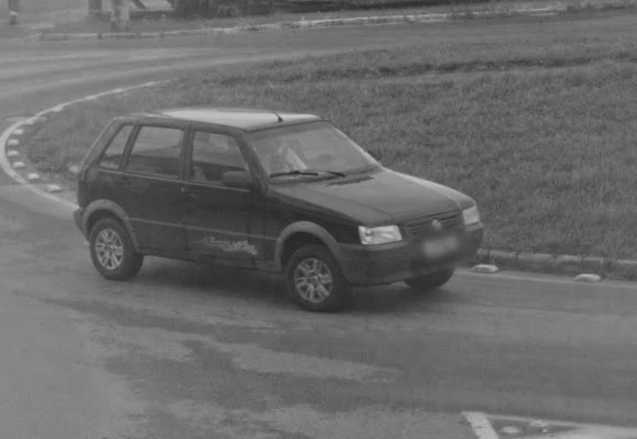car: (71, 98, 492, 319)
